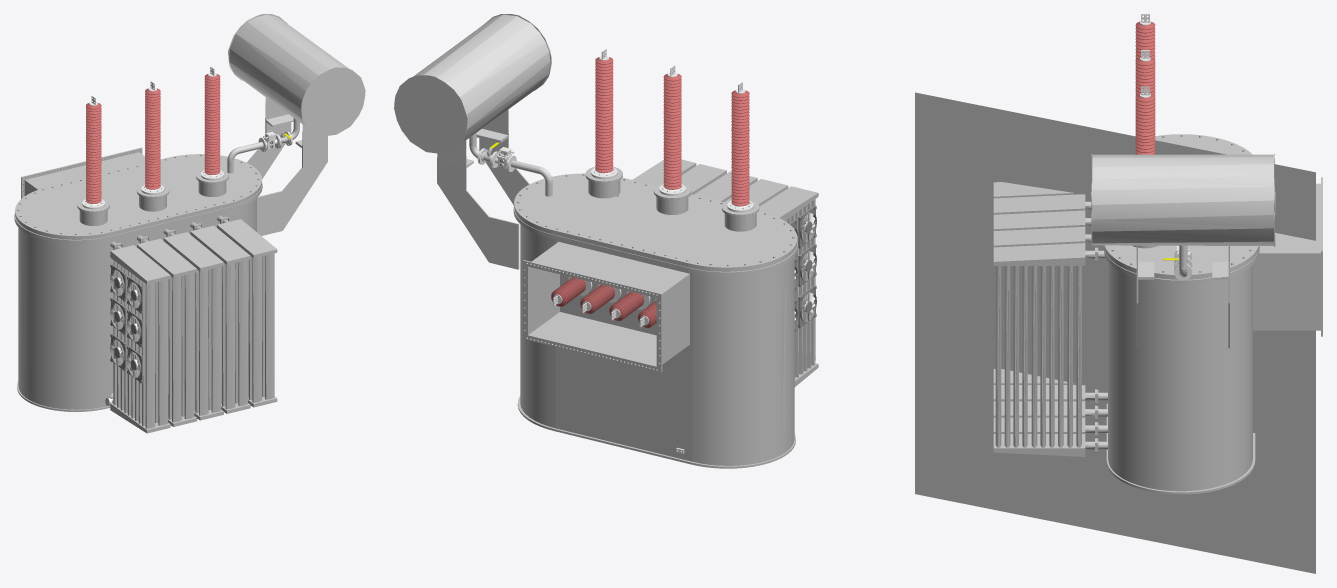
The model's file is transformer.glb.
The picture shows the model from 3 angles, left to right: view 1: azimuth 30°, elevation 25°; view 2: azimuth 150°, elevation 25°; view 3: azimuth 270°, elevation 25°; orthographic projection. The views are drawn at different scales.
Visible parts, largest first — view 1: Main Tank, Cooling Radiators, Conservator Tank, Primary Bushing A, Primary Bushing B, Primary Bushing C; view 2: Main Tank, Conservator Tank, Cooling Radiators, Primary Bushing C, Primary Bushing A, Primary Bushing B, Secondary Bushing B, Secondary Bushing A, Secondary Bushing N; view 3: Cutting View, Main Tank, Cooling Radiators, Conservator Tank, Primary Bushing A, Primary Bushing C, Primary Bushing B.
Part boxes in pixels (x1,y1,x2,y2): Main Tank: [14, 118, 327, 411]; Cooling Radiators: [110, 217, 277, 433]; Conservator Tank: [228, 14, 365, 147]; Primary Bushing A: [201, 66, 223, 180]; Primary Bushing B: [141, 81, 164, 194]; Primary Bushing C: [82, 95, 105, 209]; Main Tank: [437, 133, 798, 468]; Conservator Tank: [394, 14, 551, 166]; Cooling Radiators: [632, 159, 818, 386]; Primary Bushing C: [727, 82, 753, 212]; Primary Bushing A: [591, 48, 617, 179]; Primary Bushing B: [659, 65, 685, 195]; Secondary Bushing B: [609, 291, 650, 320]; Secondary Bushing A: [580, 283, 621, 313]; Secondary Bushing N: [551, 276, 592, 306]; Cutting View: [915, 92, 1315, 573]; Main Tank: [1096, 134, 1322, 494]; Cooling Radiators: [993, 182, 1097, 456]; Conservator Tank: [1091, 154, 1275, 277]; Primary Bushing A: [1135, 86, 1155, 154]; Primary Bushing C: [1135, 14, 1155, 133]; Primary Bushing B: [1135, 50, 1155, 153].
Bounding box in the file's own units: 48.84 × 60.94 × 44.89.
